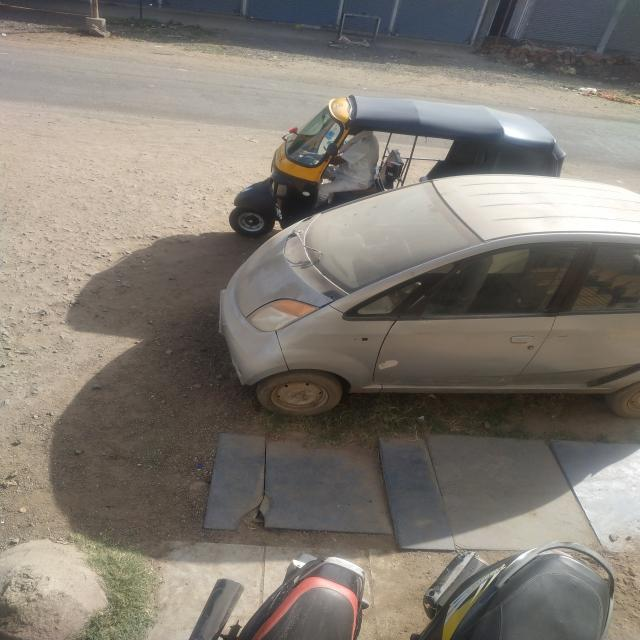Autorickshaw: (213, 90, 571, 245)
Bike: (401, 539, 628, 640), (192, 547, 386, 640)
Car: (204, 157, 640, 418)
